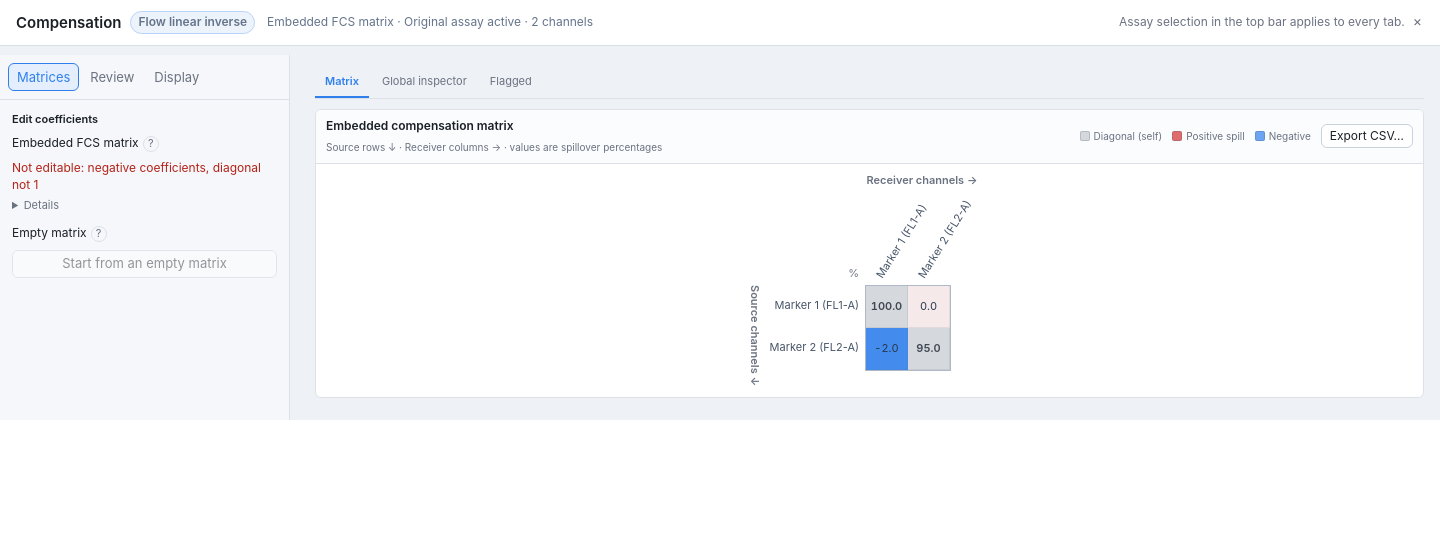
Test case: CompensationTab common path › preserves tiny, negative, and non-unit-diagonal values instead of rounding or inventing them
Click the cell with class "gl-comp-cell" showing "0.0" at (929, 307), box x1=908 y1=286 x2=950 y2=328
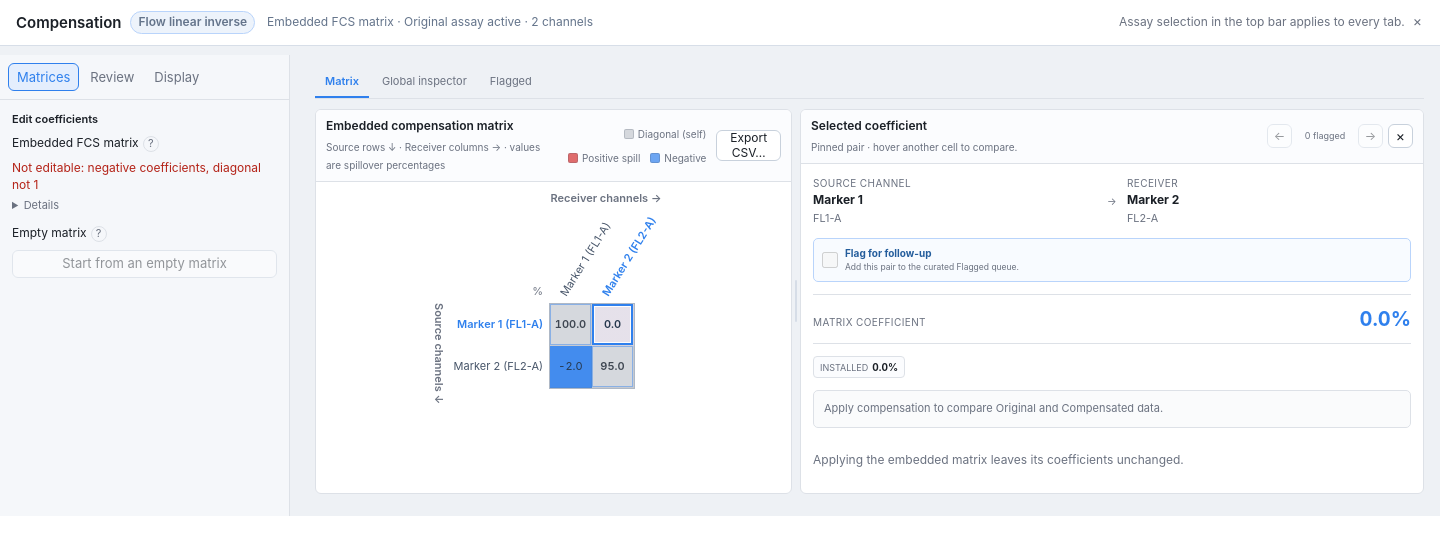
Expected: the element with class "gl-comp-pair-detail" shows "0.0%", x1=1360 y1=307 x2=1411 y2=331
